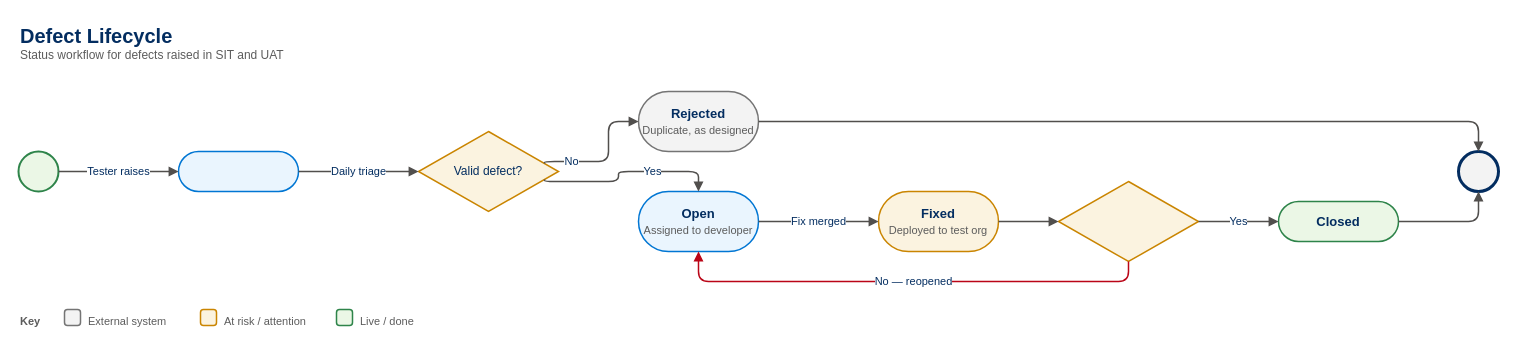
This 1517x345 diagram has some shape labels left out. Here are the shapes that lost their labels. From the top down, the box of each, then its label:
(177, 150, 299, 192): New
(1057, 180, 1199, 262): Retest passes?
